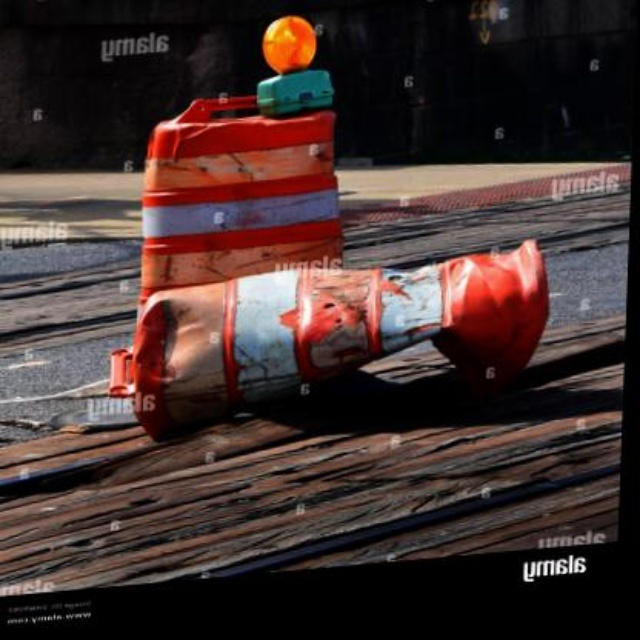obstacle: (112, 242, 573, 459), (119, 75, 359, 289)
